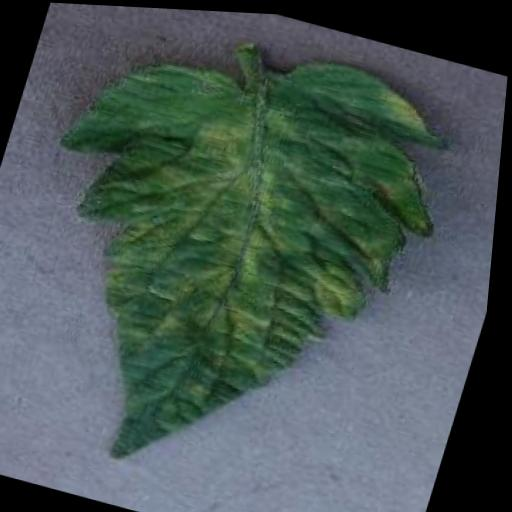Leaf Mold: (0, 0, 474, 512)
